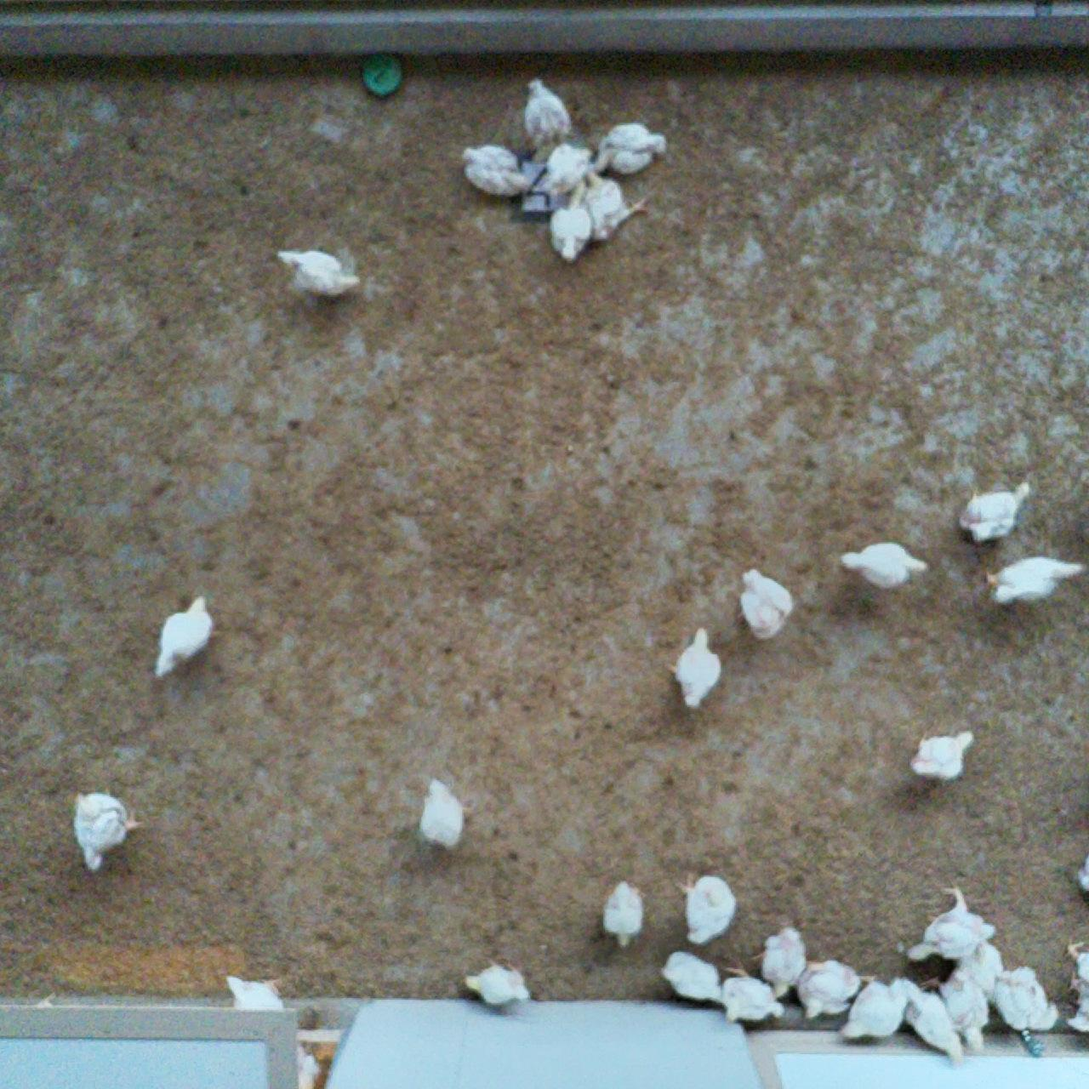chicken: (986, 963, 1065, 1059), (904, 886, 996, 962), (70, 785, 145, 873), (918, 969, 991, 1055), (567, 174, 650, 243), (904, 979, 966, 1070), (984, 554, 1086, 606), (152, 594, 215, 678), (668, 626, 725, 713), (836, 974, 910, 1041), (676, 870, 739, 947), (958, 479, 1032, 544), (838, 540, 931, 591), (274, 248, 362, 300), (750, 922, 810, 998), (794, 958, 863, 1022), (718, 963, 786, 1025), (590, 122, 668, 176), (738, 567, 794, 642), (461, 145, 535, 197), (910, 730, 980, 784), (659, 948, 722, 1005), (416, 775, 465, 848), (522, 77, 573, 147), (463, 958, 533, 1008), (949, 939, 1006, 998), (602, 879, 646, 947), (542, 141, 595, 195), (548, 205, 594, 262), (225, 972, 284, 1015), (1064, 972, 1089, 1034), (293, 1041, 322, 1089), (1063, 941, 1089, 985), (1075, 852, 1089, 903)
